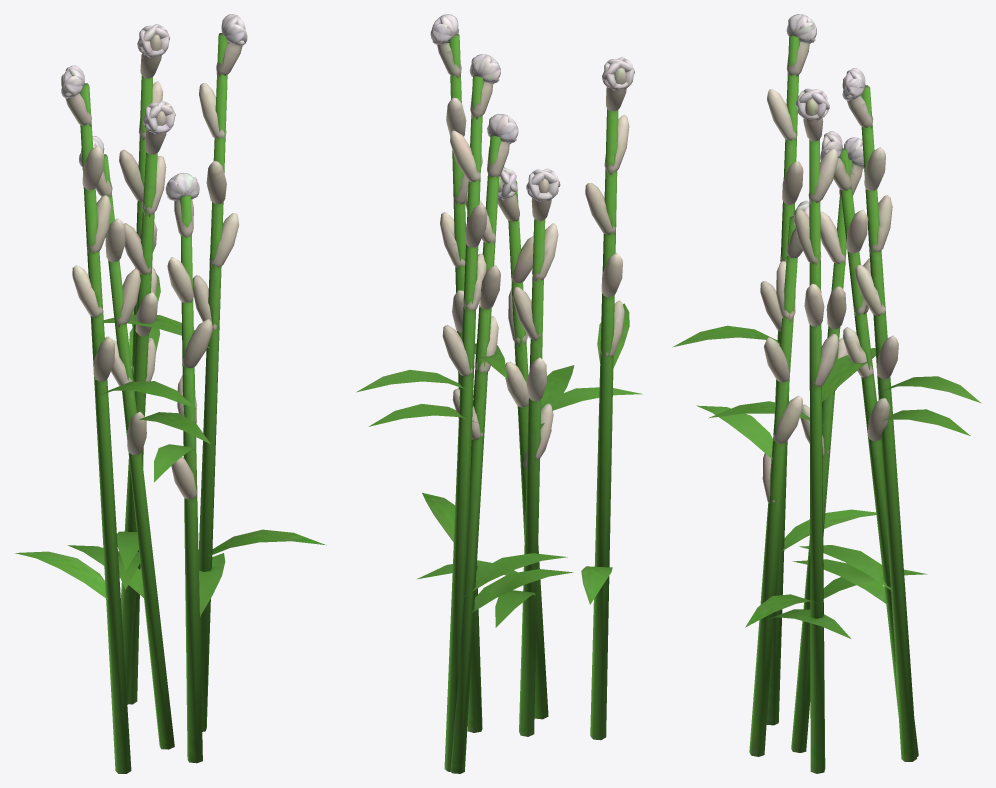
The model's file is crop_sesame.glb.
3 views of the same model, side by side, from view 1: azimuth 30°, elevation 25°; view 2: azimuth 150°, elevation 25°; view 3: azimuth 270°, elevation 25° (orthographic).
Parts seen in each view (by area): view 1: crop_sesame, fruit; view 2: crop_sesame, fruit; view 3: crop_sesame, fruit.
Part boxes in pixels (x1,y1,x2,y2): crop_sesame: (15, 14, 326, 773); fruit: (61, 23, 244, 499); crop_sesame: (356, 14, 642, 773); fruit: (437, 43, 629, 468); crop_sesame: (672, 14, 981, 773); fruit: (760, 42, 898, 503).
Bounding box in the file's own units: 0.1383 × 0.3887 × 0.1565.
Materials: 1 (1 with a texture image).
